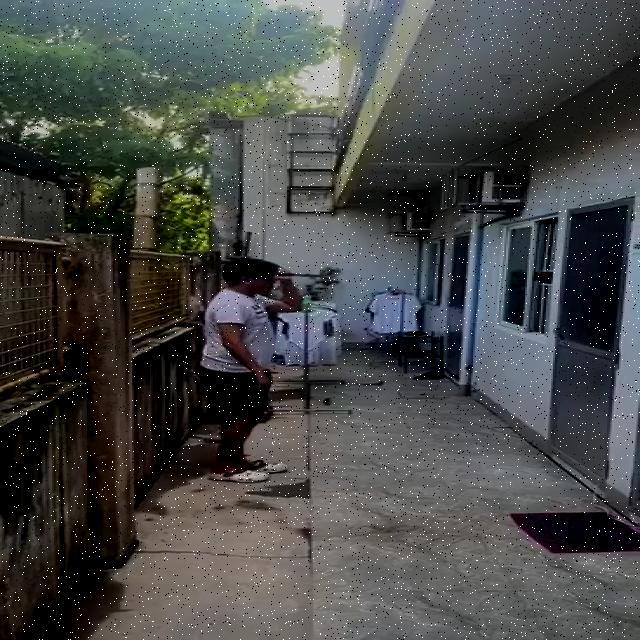knife: (268, 270, 322, 279)
non-violence: (195, 257, 322, 483)
